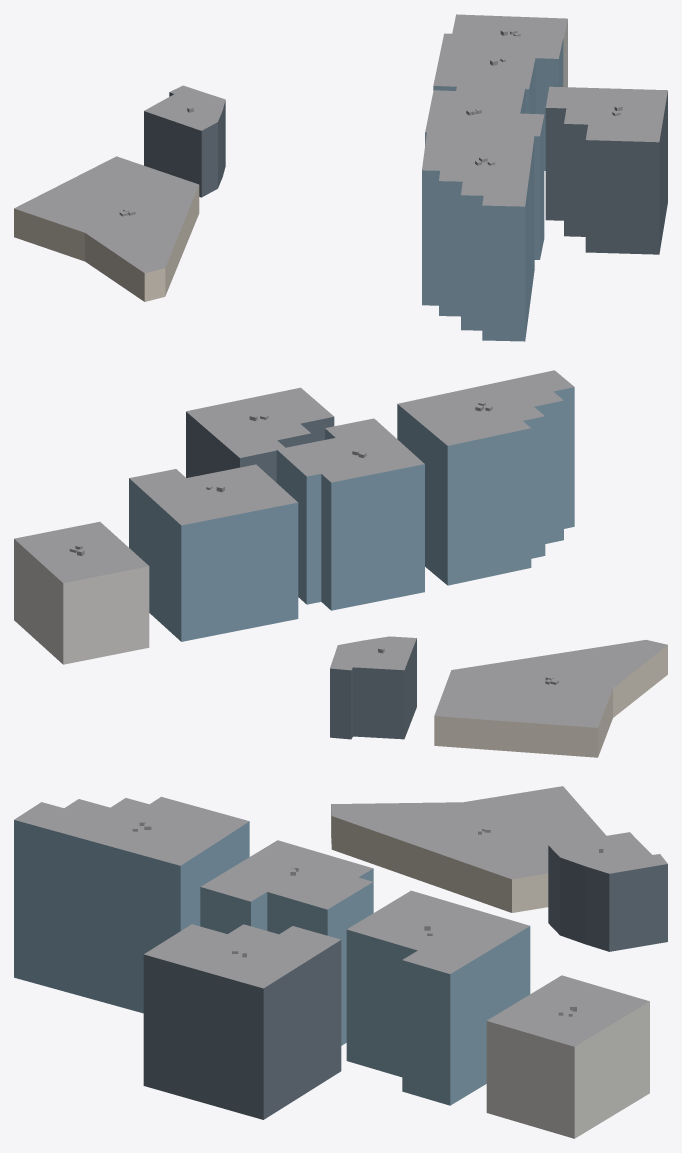
Rendered from building_0_6.glb.
The picture shows the model from 3 angles, top to bottom: view 1: azimuth 30°, elevation 25°; view 2: azimuth 150°, elevation 25°; view 3: azimuth 270°, elevation 25°; orthographic projection. The views are drawn at different scales.
Parts seen in each view (by area): view 1: roof, glass_dark, glass_blue, concrete_warm; view 2: glass_blue, roof, concrete_light, glass_dark, concrete_warm; view 3: glass_blue, roof, glass_dark, concrete_light, concrete_warm.
Boxes of the visible parts, x1,y1,x2,y2 form: roof: (14, 14, 667, 272); glass_dark: (144, 91, 667, 254); glass_blue: (422, 38, 563, 341); concrete_warm: (14, 185, 199, 301); glass_blue: (129, 387, 574, 641); roof: (14, 370, 667, 727); concrete_light: (14, 539, 149, 664); glass_dark: (186, 412, 416, 739); concrete_warm: (434, 645, 667, 757); glass_blue: (14, 820, 530, 1105); roof: (14, 786, 667, 1046); glass_dark: (143, 845, 667, 1119); concrete_light: (486, 1001, 649, 1138); concrete_warm: (331, 804, 548, 912).
Bounding box in the file's own units: 260 × 61.36 × 225.
